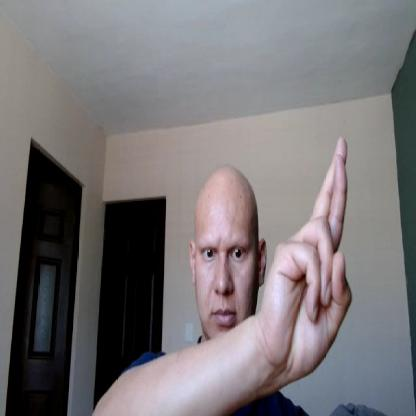R: (266, 134, 354, 378)
